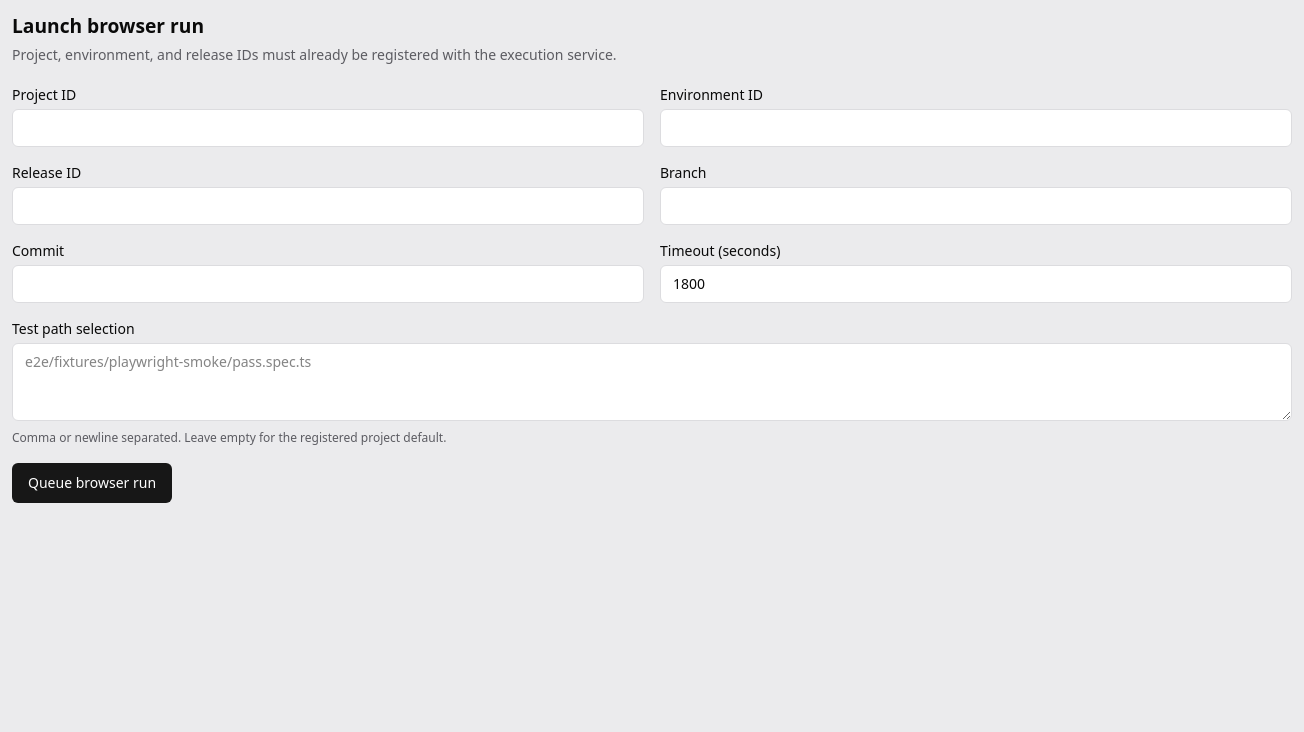
Test: dashboard routes › shows launch failures without claiming success
The image size is (1304, 732).
In the field with test id "launch-project-id": (328, 128) [12,109,644,147], type "project-1"
In the field with test id "launch-environment-id": (976, 128) [660,109,1292,147], type "environment-1"
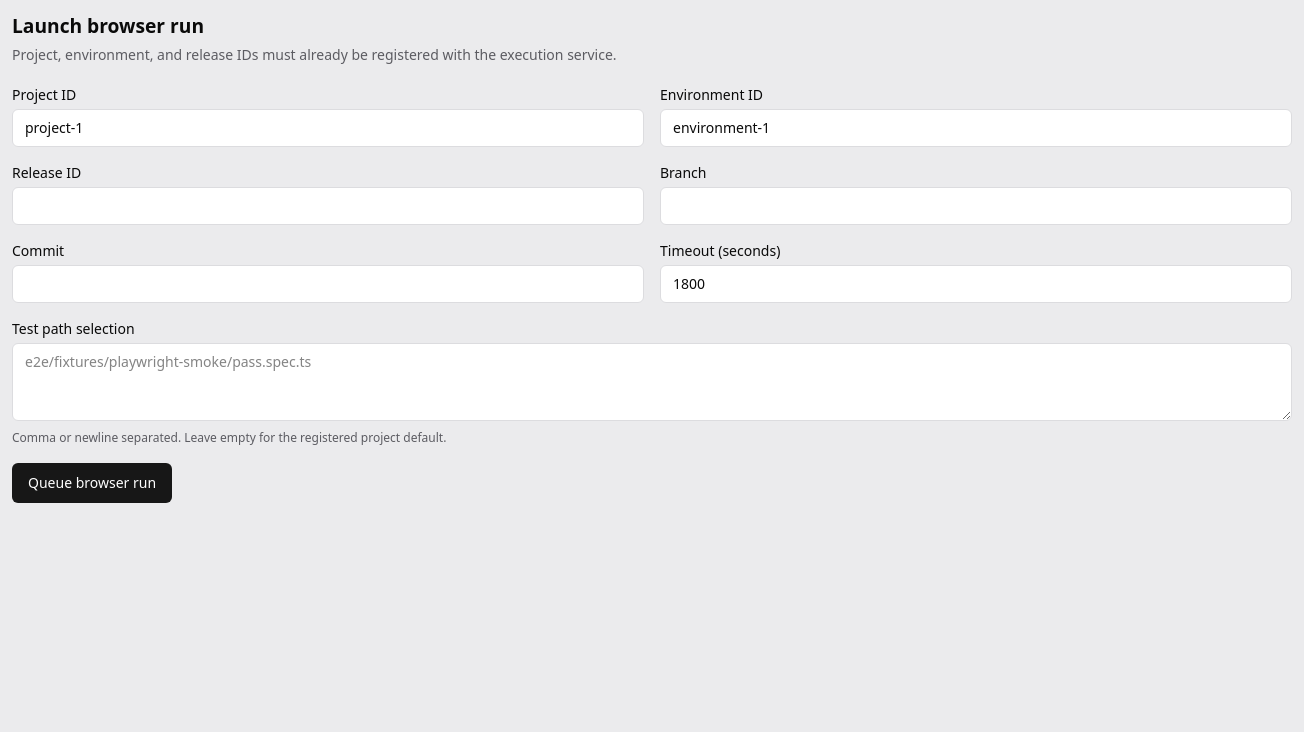
In the field with test id "launch-release-id": (328, 206) [12,187,644,225], type "release-1"
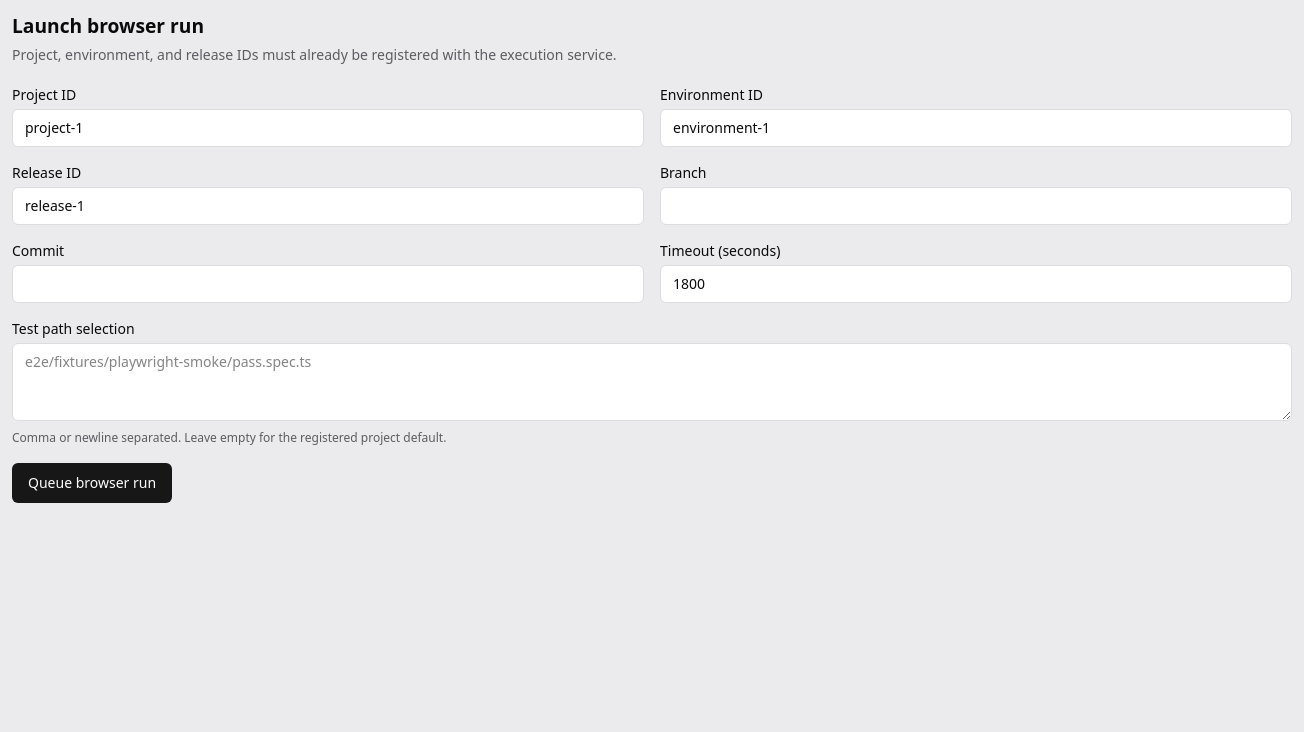
In the field with test id "launch-branch": (976, 206) [660,187,1292,225], type "main"
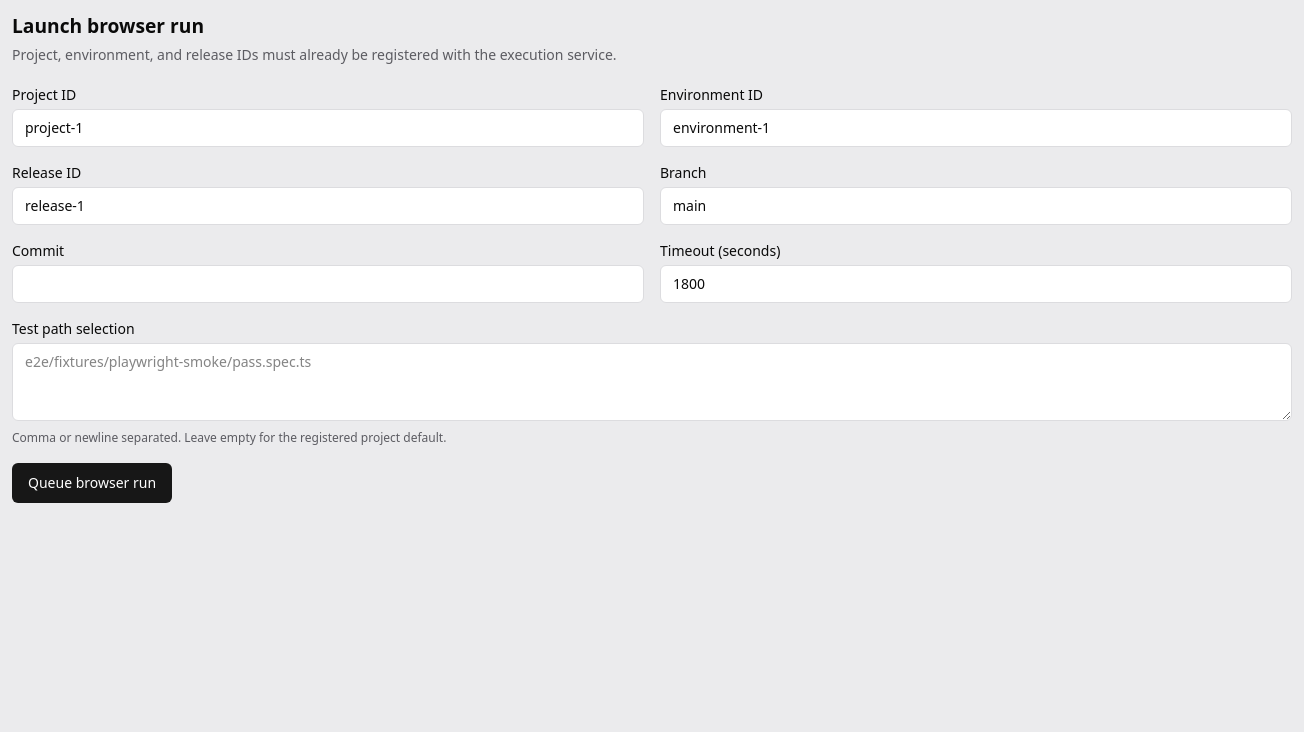
In the field with test id "launch-commit": (328, 284) [12,265,644,303], type "abc123"
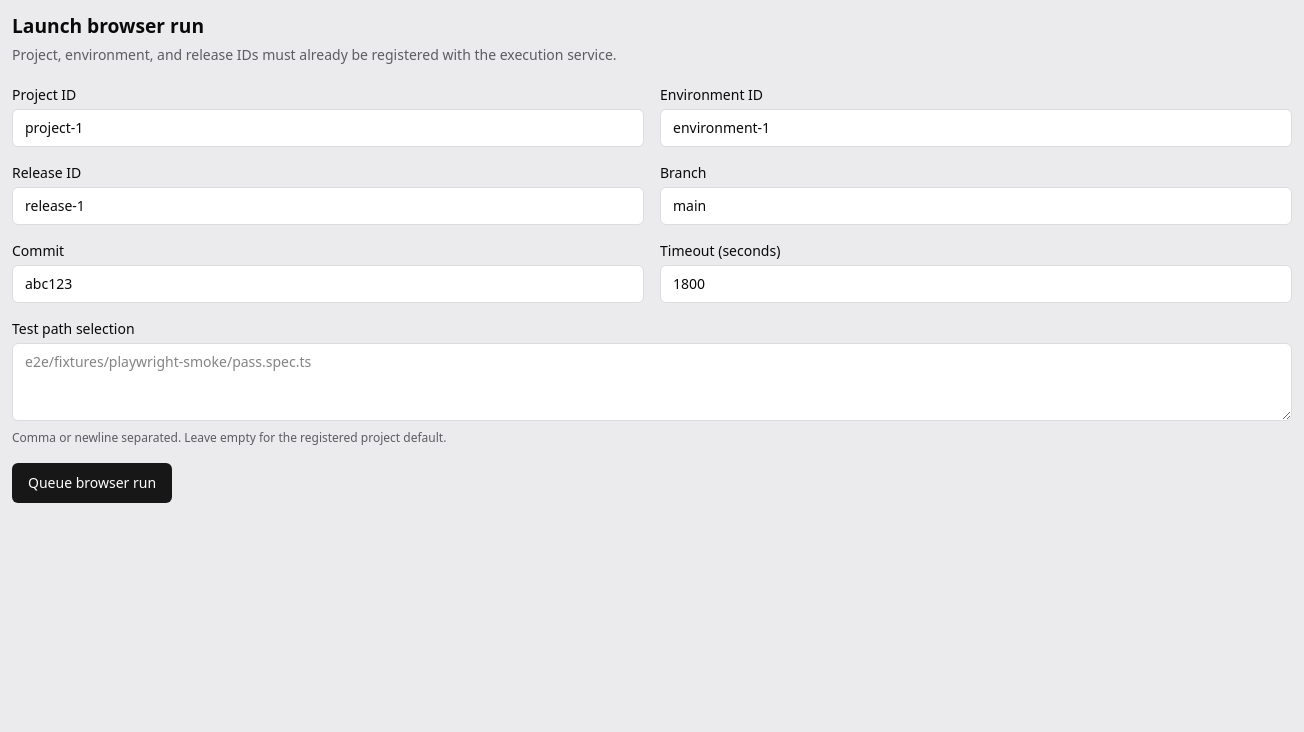
In the text box with test id "launch-selection": (652, 382) [12,343,1292,421], type "e2e/smoke.spec.ts"
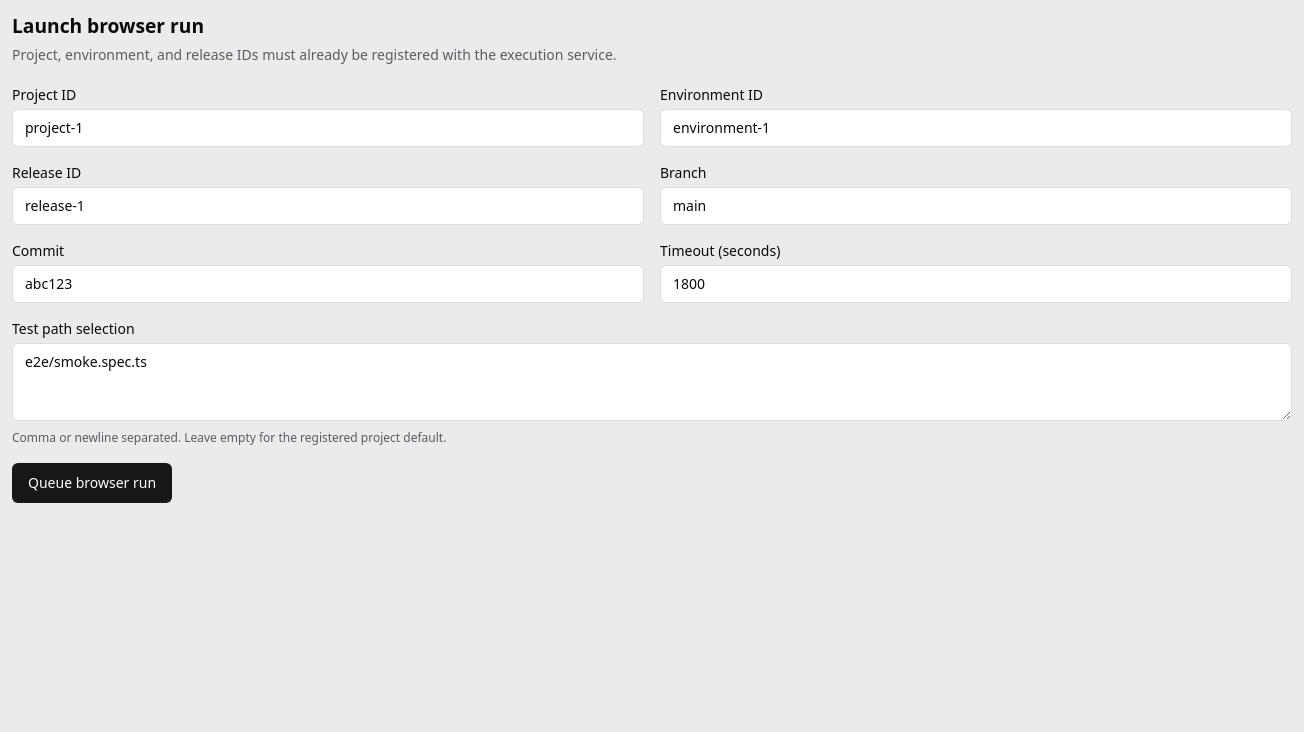
Click the button with test id "launch-run-submit": (92, 483) [12,463,172,503]
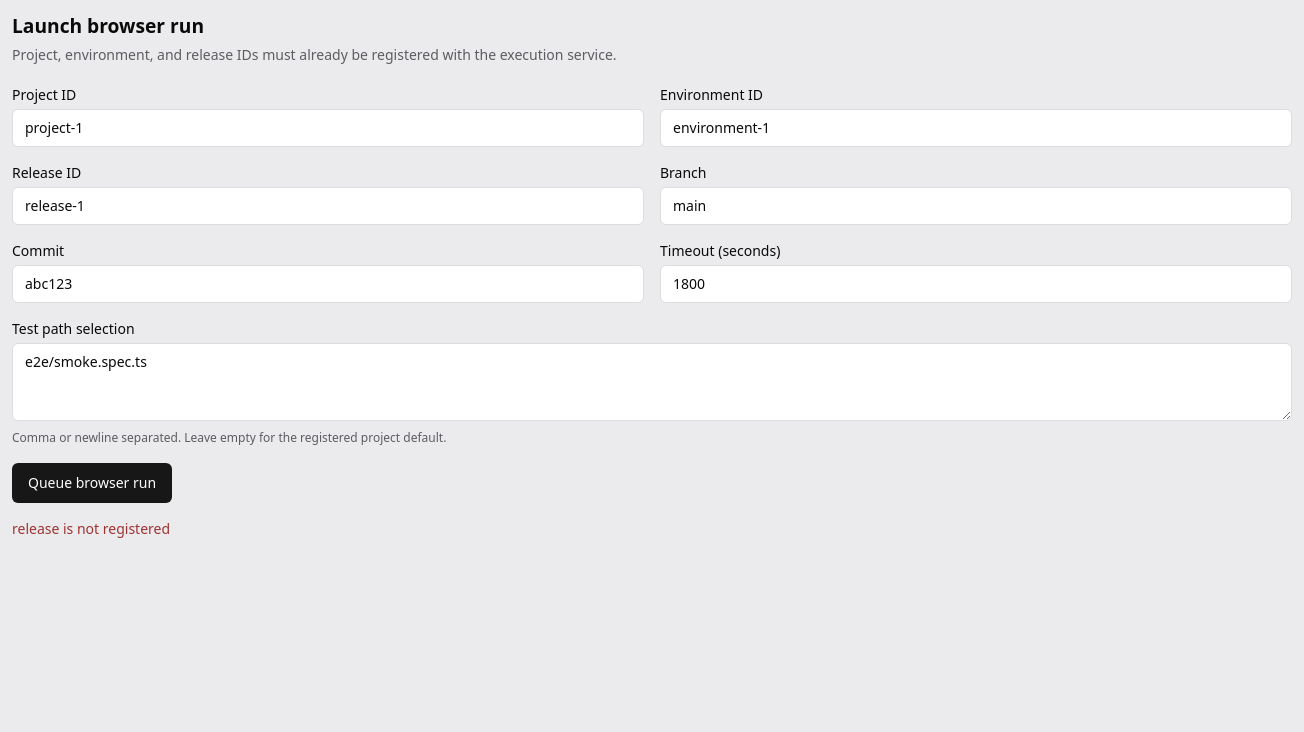
Check: the message with test id "launch-run-error" reads "release is not registered", box [12,519,170,538]
